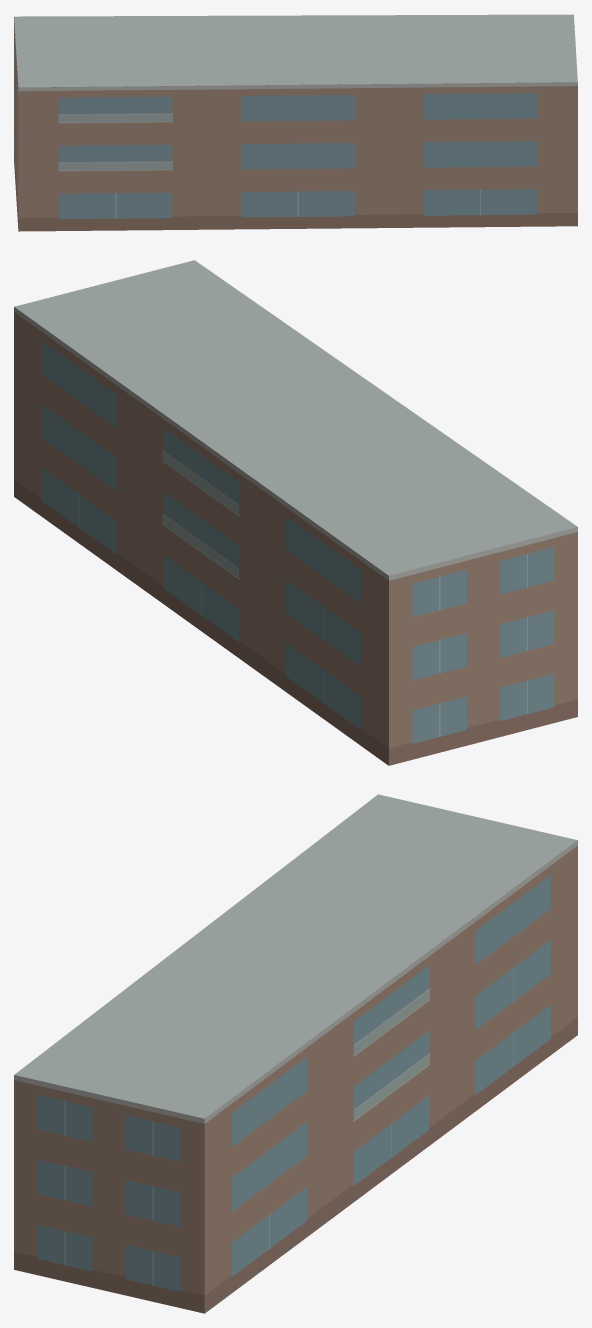
File: survey-upis-32877628.glb
The picture shows the model from 3 angles, top to bottom: view 1: azimuth 30°, elevation 25°; view 2: azimuth 150°, elevation 25°; view 3: azimuth 270°, elevation 25°; orthographic projection. The views are drawn at different scales.
Visible parts, largest first — view 1: survey-upis-32877628.tmp; view 2: survey-upis-32877628.tmp; view 3: survey-upis-32877628.tmp.
Boxes of the visible parts, x1,y1,x2,y2 form: survey-upis-32877628.tmp: (14,14,577,231); survey-upis-32877628.tmp: (14,260,577,765); survey-upis-32877628.tmp: (14,794,577,1313).
Size of the model in its own units: 32.68 by 9.15 by 24.
